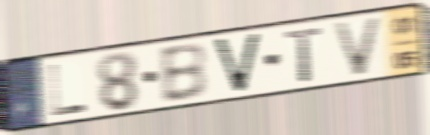8: (95, 49, 141, 114)
B: (157, 40, 210, 106)
L: (46, 62, 89, 119)
T: (283, 24, 325, 84)
V: (330, 14, 386, 78), (210, 31, 265, 96)
